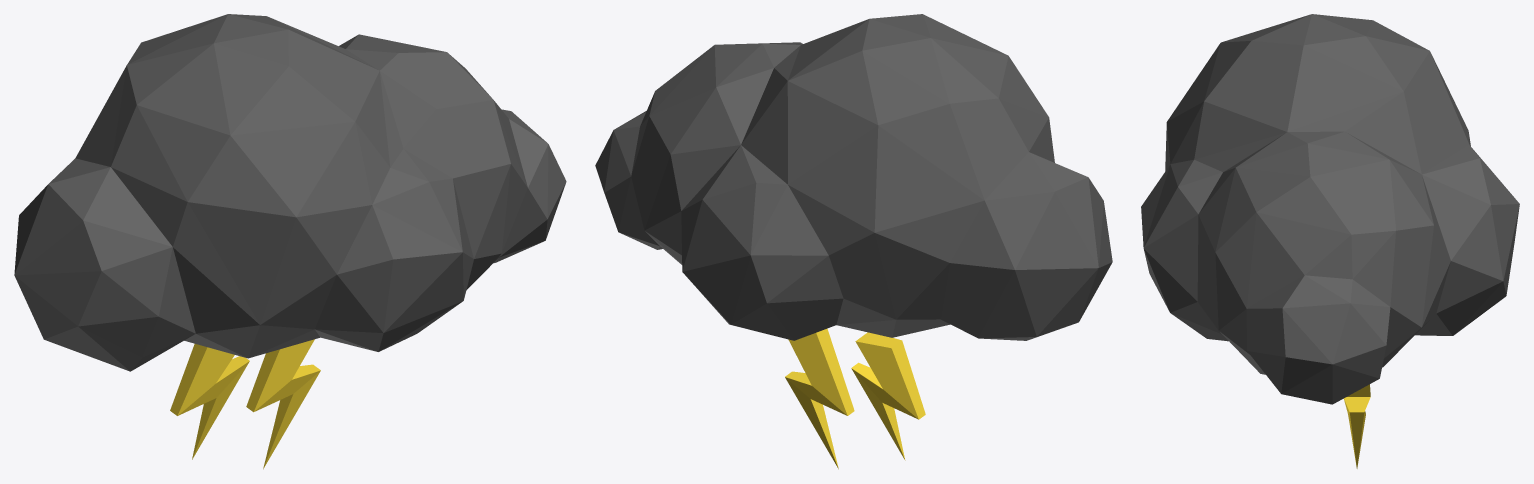
3 views of the same model, side by side, from view 1: azimuth 30°, elevation 25°; view 2: azimuth 150°, elevation 25°; view 3: azimuth 270°, elevation 25° (orthographic). The views are drawn at different scales.
Parts seen in each view (by area): view 1: 11d_cloud.003, lightning_cloud.005; view 2: 11d_cloud.003, lightning_cloud.005; view 3: 11d_cloud.003, lightning_cloud.005.
Boxes of the visible parts, x1=… form: 11d_cloud.003: x1=14, y1=14, x2=566, y2=371; lightning_cloud.005: x1=170, y1=339, x2=320, y2=469; 11d_cloud.003: x1=595, y1=14, x2=1112, y2=340; lightning_cloud.005: x1=785, y1=328, x2=925, y2=469; 11d_cloud.003: x1=1141, y1=14, x2=1519, y2=404; lightning_cloud.005: x1=1343, y1=384, x2=1370, y2=468.
Size of the model in its own units: 6.24 by 5.13 by 4.16.
